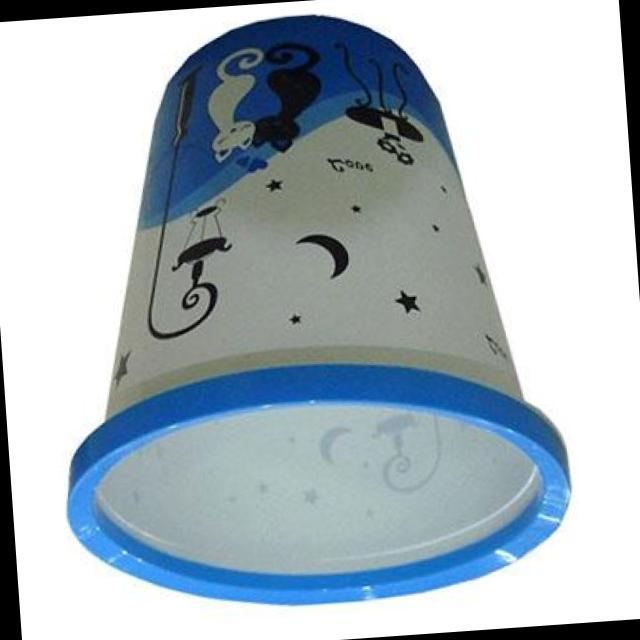dustbin: (26, 0, 594, 630)
